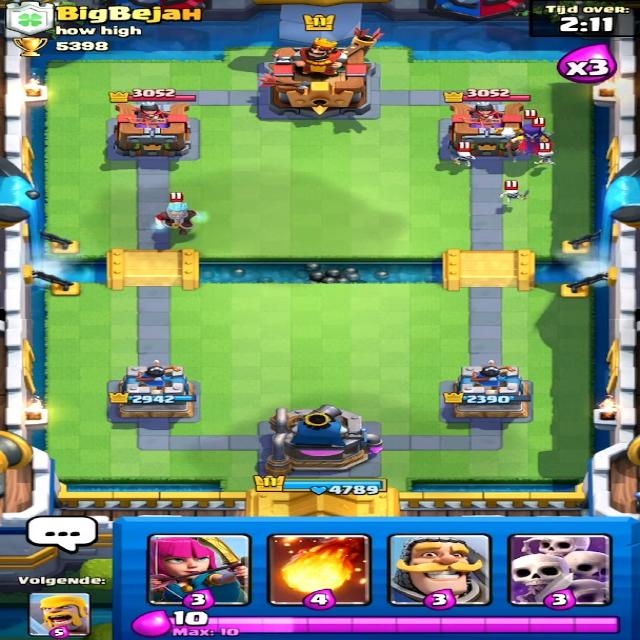Enemy_Ice_Wizard_Troop: (149, 199, 207, 239)
Enemy_Skeleton_Troop: (445, 148, 476, 170), (533, 146, 559, 169), (499, 188, 532, 204)
Enemy_Witch_Troop: (516, 126, 554, 157)
Fireball_Card: (270, 532, 360, 605)
